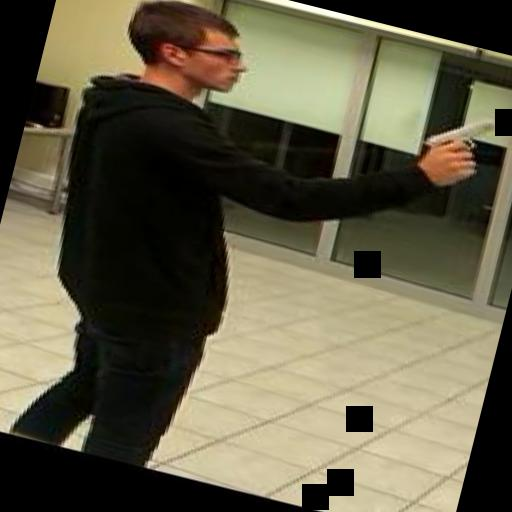Handgun: (412, 102, 499, 180)
